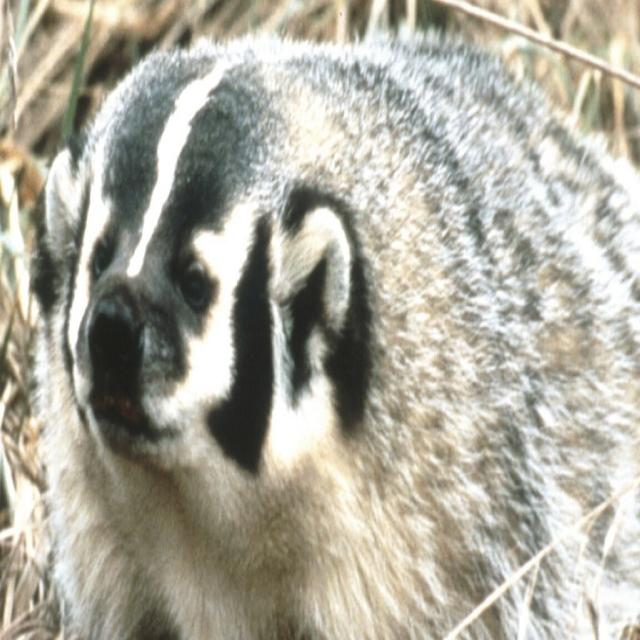badger: (33, 33, 639, 639)
